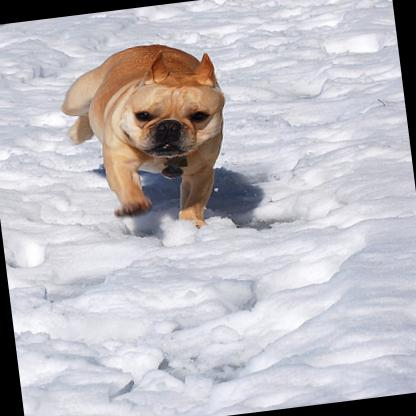French_bulldog: (53, 34, 239, 242)
